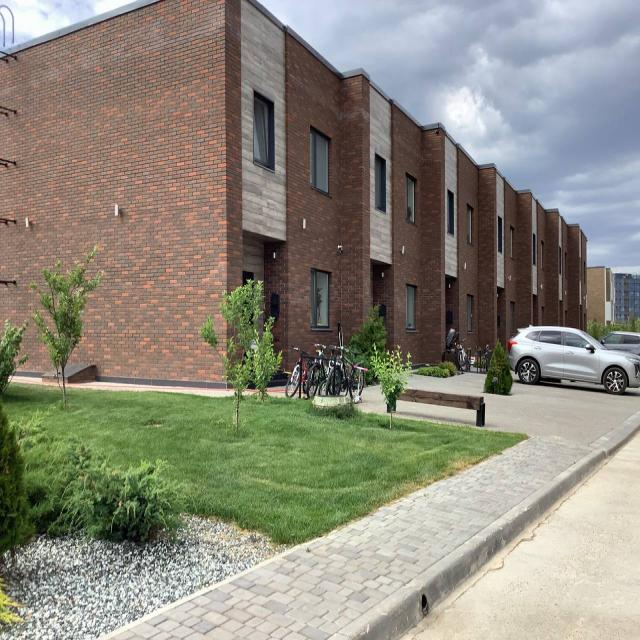Building: (0, 0, 588, 392)
